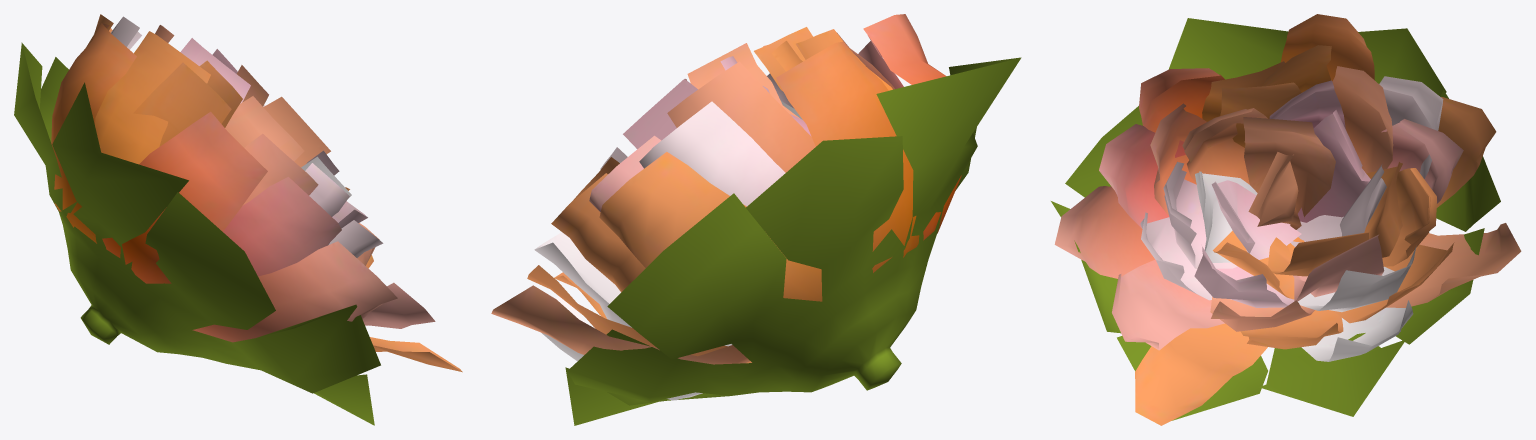
The model's file is flower.glb.
3 views of the same model, side by side, from view 1: azimuth 30°, elevation 25°; view 2: azimuth 150°, elevation 25°; view 3: azimuth 270°, elevation 25° (orthographic). The views are drawn at different scales.
Parts seen in each view (by area): view 1: Plane.007; view 2: Plane.007; view 3: Plane.007.
Part boxes in pixels (<box>): Plane.007: <box>14,14,462,425</box>; Plane.007: <box>491,14,1021,425</box>; Plane.007: <box>1051,14,1521,425</box>.
Bounding box in the file's own units: 0.7836 × 0.8104 × 1.04.
Materials: 2 (1 with a texture image).
